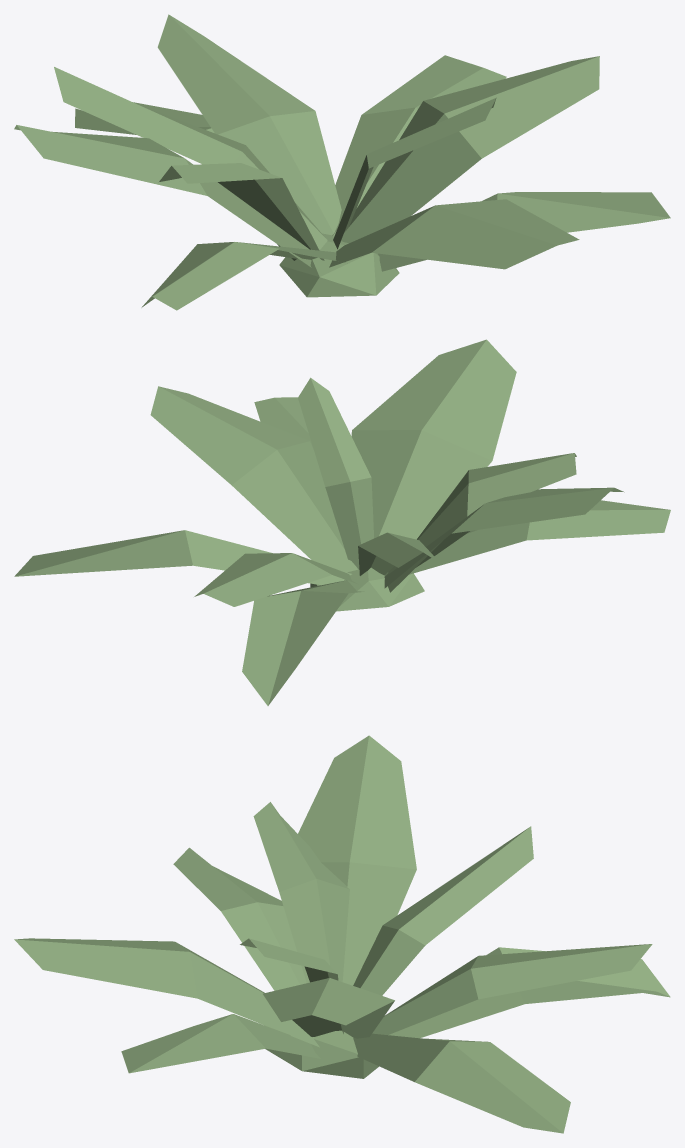
The model's file is fern1.fbx.
The picture shows the model from 3 angles, top to bottom: view 1: azimuth 30°, elevation 25°; view 2: azimuth 150°, elevation 25°; view 3: azimuth 270°, elevation 25°; orthographic projection. The views are drawn at different scales.
Visible parts, largest first — view 1: fern1; view 2: fern1; view 3: fern1.
Boxes of the visible parts, left/top/right/bottom form: fern1: left=14, top=14, right=670, bottom=310; fern1: left=14, top=339, right=670, bottom=705; fern1: left=14, top=735, right=670, bottom=1133.
Size of the model in its own units: 432 by 152 by 475.
